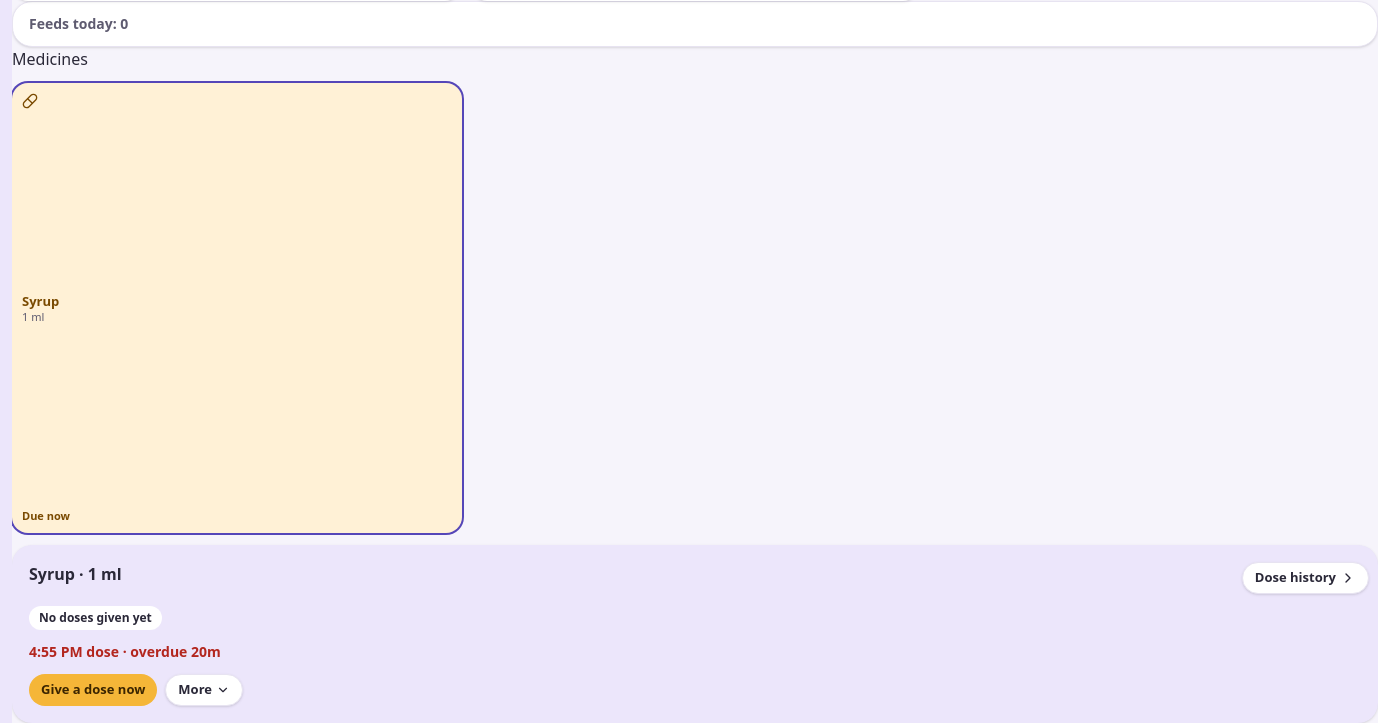
Scenario: a full dose that completes the slot offers no reminder
This screenshot has width=1378, height=723.
(page scrolled)
Click the button "Give a dose now".
click(93, 690)  # box [29,674,157,706]
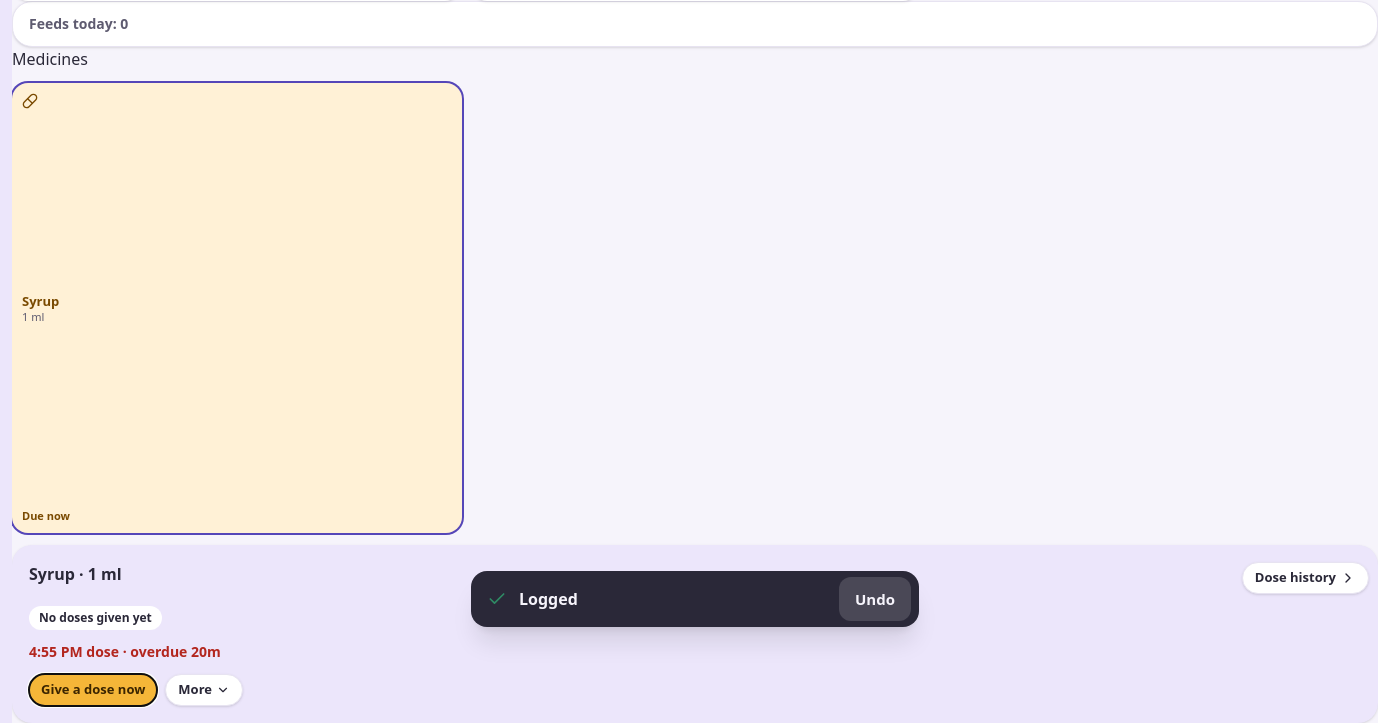
Expected: the text "Logged" is shown, [519,588,578,610]
